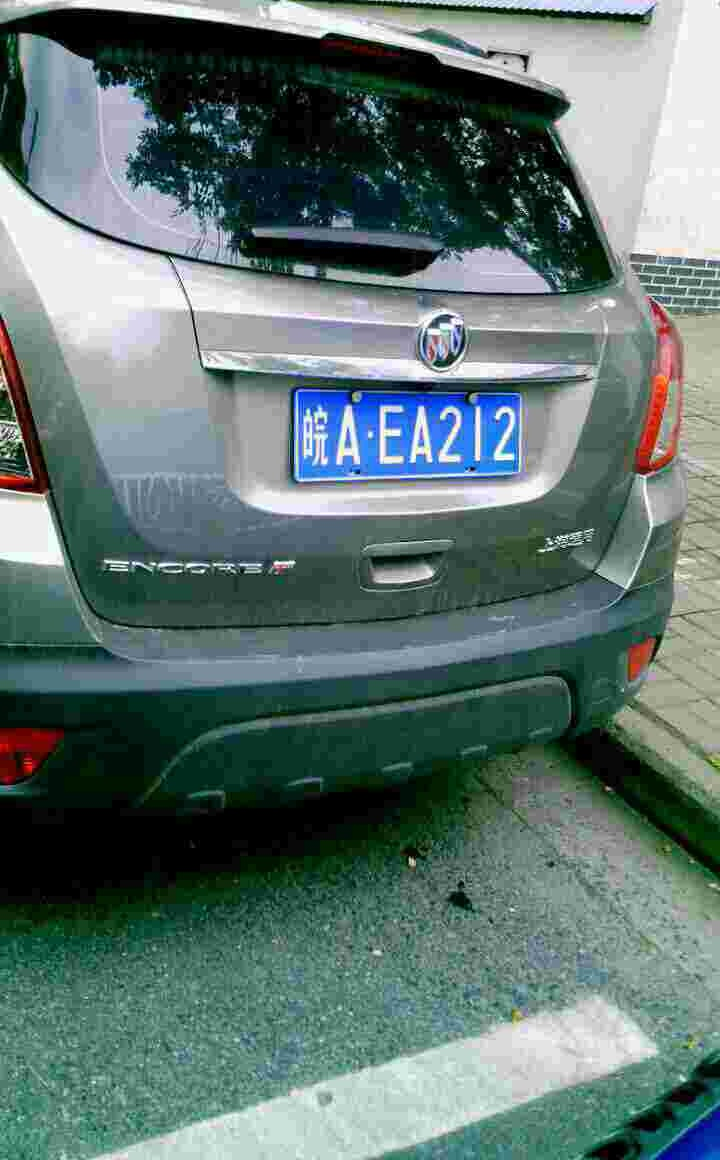license_plate: (300, 389, 536, 486)
